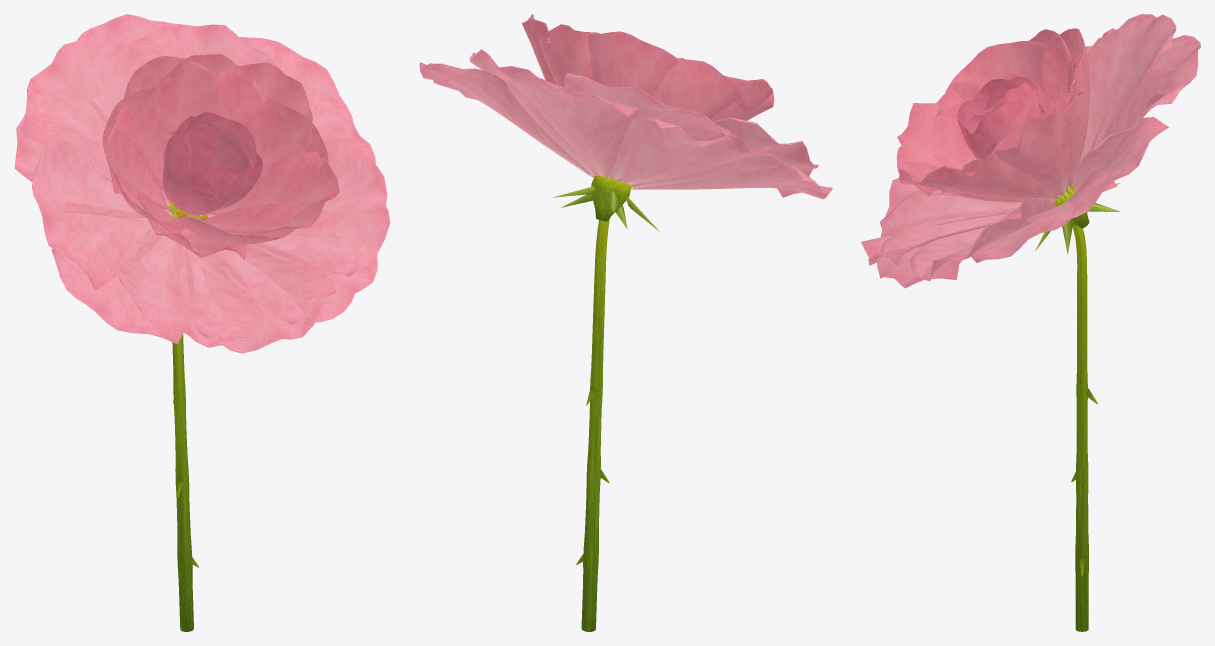
Rendered from rose_27.glb.
3 renders of one model, left to right at view 1: azimuth 30°, elevation 25°; view 2: azimuth 150°, elevation 25°; view 3: azimuth 270°, elevation 25°, orthographic. The views are drawn at different scales.
Parts seen in each view (by area): view 1: Petal_1_outer_03, Petal_3_outer_04, Petal_8_outer_02, Petal_5_outer_04, Petal_6_outer_02, Petal_4_outer_01, Petal_7_outer_03, Petal_14_middle_03, Petal_18_middle_01, Stem_Skinned, Petal_16_middle_03, Petal_11_outer_04 (+15 smaller); view 2: Petal_0_outer_01, Stem_Skinned, Petal_2_outer_02, Petal_18_middle_01, Petal_1_outer_03, Petal_3_outer_04, Petal_19_middle_04, Petal_10_outer_01, Petal_4_outer_01, Petal_17_middle_02, Hypanthium_and_five_sepals, Petal_11_outer_04 (+2 smaller); view 3: Petal_1_outer_03, Stem_Skinned, Petal_16_middle_03, Petal_8_outer_02, Petal_20_middle_01, Petal_15_middle_02, Petal_7_outer_03, Petal_6_outer_02, Petal_11_outer_04, Petal_10_outer_01, Petal_13_middle_04, Petal_0_outer_01 (+13 smaller).
Part boxes in pixels (box(x1,y1,x2,y2)): Petal_1_outer_03: box(21, 33, 147, 181); Petal_3_outer_04: box(32, 139, 161, 290); Petal_8_outer_02: box(246, 136, 390, 276); Petal_5_outer_04: box(118, 235, 263, 347); Petal_6_outer_02: box(179, 243, 335, 353); Petal_4_outer_01: box(51, 214, 193, 344); Petal_7_outer_03: box(215, 210, 377, 324); Petal_14_middle_03: box(200, 151, 339, 233); Petal_18_middle_01: box(114, 56, 219, 191); Stem_Skinned: box(172, 210, 198, 631); Petal_16_middle_03: box(205, 62, 312, 168); Petal_11_outer_04: box(133, 23, 278, 67); Petal_0_outer_01: box(488, 70, 639, 177); Stem_Skinned: box(576, 218, 609, 631); Petal_2_outer_02: box(623, 117, 782, 185); Petal_18_middle_01: box(588, 31, 678, 96); Petal_1_outer_03: box(564, 73, 730, 181); Petal_3_outer_04: box(632, 117, 818, 188); Petal_19_middle_04: box(653, 58, 748, 118); Petal_10_outer_01: box(419, 62, 589, 174); Petal_4_outer_01: box(635, 163, 832, 199); Petal_17_middle_02: box(539, 24, 600, 87); Hypanthium_and_five_sepals: box(552, 175, 660, 232); Petal_11_outer_04: box(469, 49, 596, 175); Petal_1_outer_03: box(1079, 14, 1176, 163); Stem_Skinned: box(1059, 194, 1097, 631); Petal_16_middle_03: box(994, 90, 1083, 195); Petal_8_outer_02: box(910, 197, 1055, 281); Petal_20_middle_01: box(935, 40, 1059, 122); Petal_15_middle_02: box(942, 128, 1058, 201); Petal_7_outer_03: box(876, 212, 1010, 288); Petal_6_outer_02: box(861, 189, 1022, 265); Petal_11_outer_04: box(1072, 65, 1175, 191); Petal_10_outer_01: box(1026, 117, 1168, 228); Petal_13_middle_04: box(896, 114, 976, 196); Petal_0_outer_01: box(1091, 35, 1200, 149).
Size of the model in its own units: 0.198 by 0.3269 by 0.1732.
Materials: 7 (7 with a texture image).
